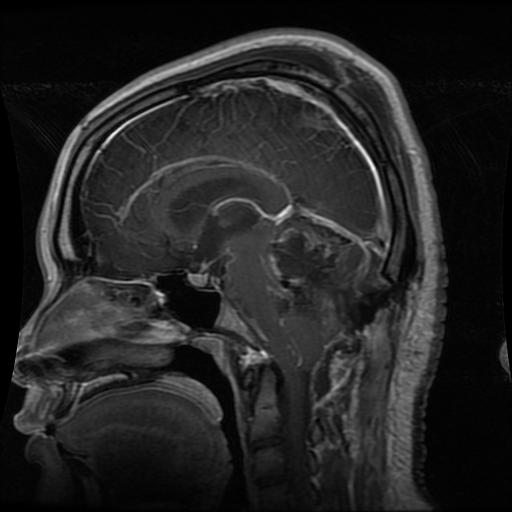Gliomia_tumour: (265, 229, 340, 322)
